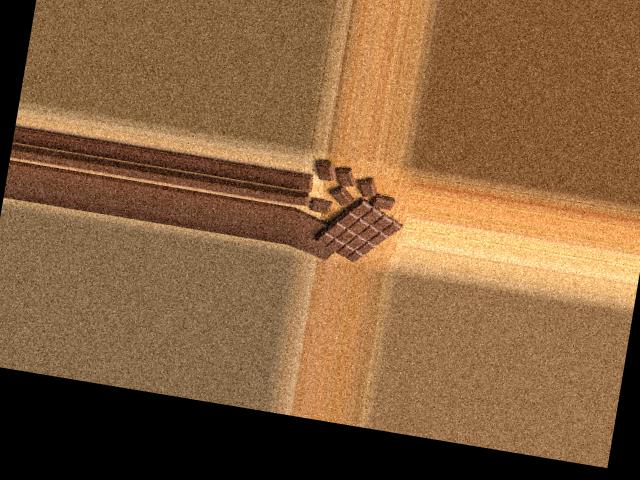chocolate: (312, 188, 404, 269)
